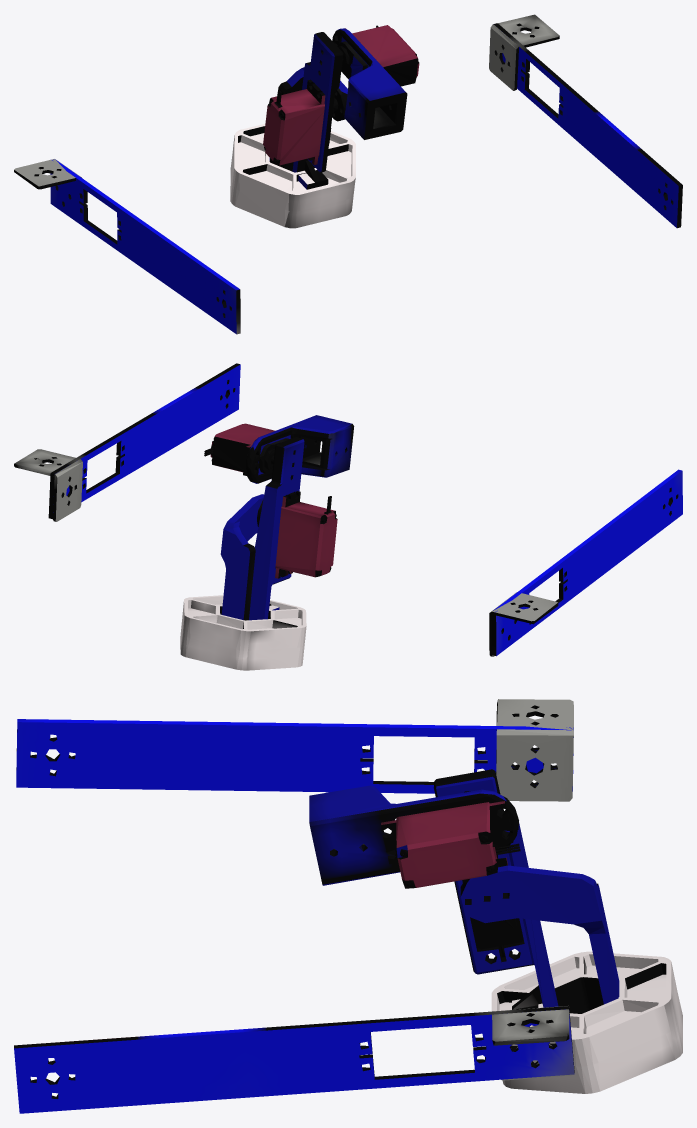
Rendered from inputoutput-arm.glb.
3 renders of one model, top to bottom at view 1: azimuth 30°, elevation 25°; view 2: azimuth 150°, elevation 25°; view 3: azimuth 270°, elevation 25°, orthographic. The views are drawn at different scales.
Visible parts, largest first — view 1: telemark-cad-mechanism; view 2: telemark-cad-mechanism; view 3: telemark-cad-mechanism.
Part boxes in pixels (x1,y1,x2,y2): telemark-cad-mechanism: [14, 14, 682, 334]; telemark-cad-mechanism: [14, 363, 682, 670]; telemark-cad-mechanism: [14, 699, 682, 1113].
Size of the model in its own units: 91.92 by 32.65 by 68.34.
1 material, 1 textured.
